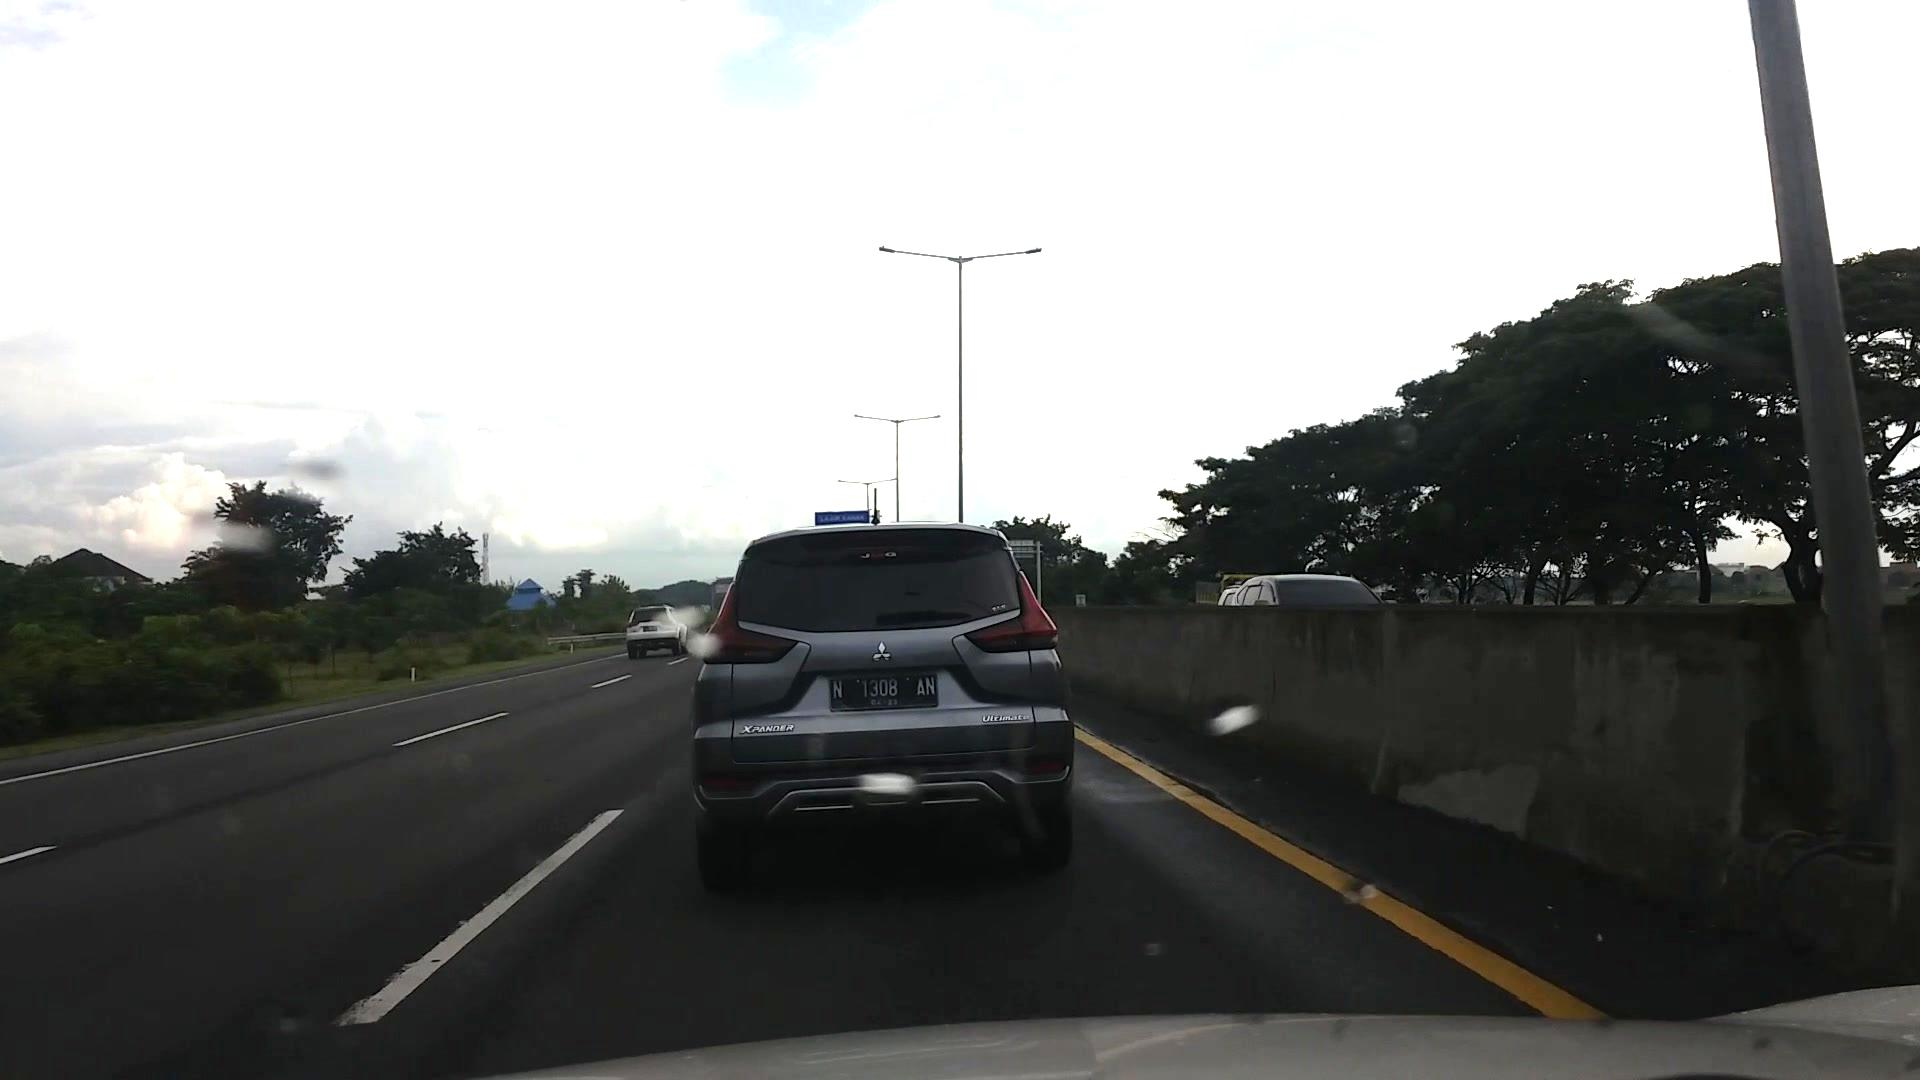plate_positive: (829, 673, 939, 709)
